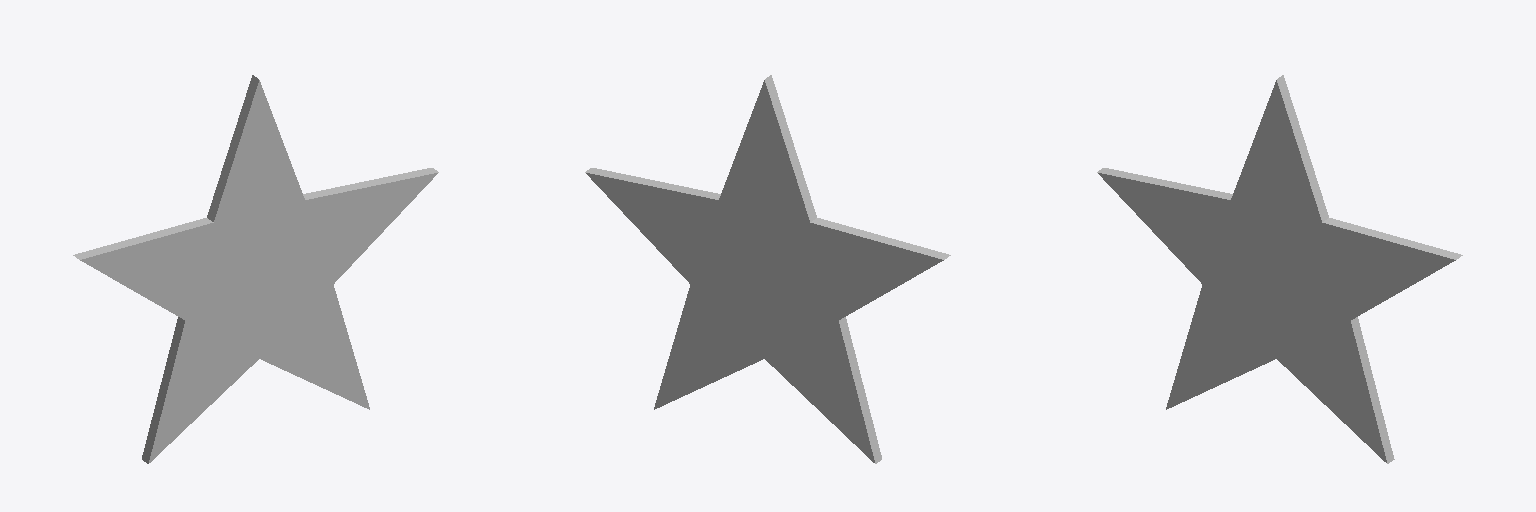
File: WAYPOINT.obj
3 renders of one model, left to right at view 1: azimuth 30°, elevation 25°; view 2: azimuth 150°, elevation 25°; view 3: azimuth 330°, elevation 25°, orthographic.
Parts seen in each view (by area): view 1: fantabulous_trug_bojo__1__obj_1; view 2: fantabulous_trug_bojo__1__obj_1; view 3: fantabulous_trug_bojo__1__obj_1.
Part boxes in pixels (bbox=[...]): fantabulous_trug_bojo__1__obj_1: bbox=[73, 75, 438, 463]; fantabulous_trug_bojo__1__obj_1: bbox=[585, 75, 950, 463]; fantabulous_trug_bojo__1__obj_1: bbox=[1097, 75, 1462, 463].
Bounding box in the file's own units: 6000 × 5707 × 200.